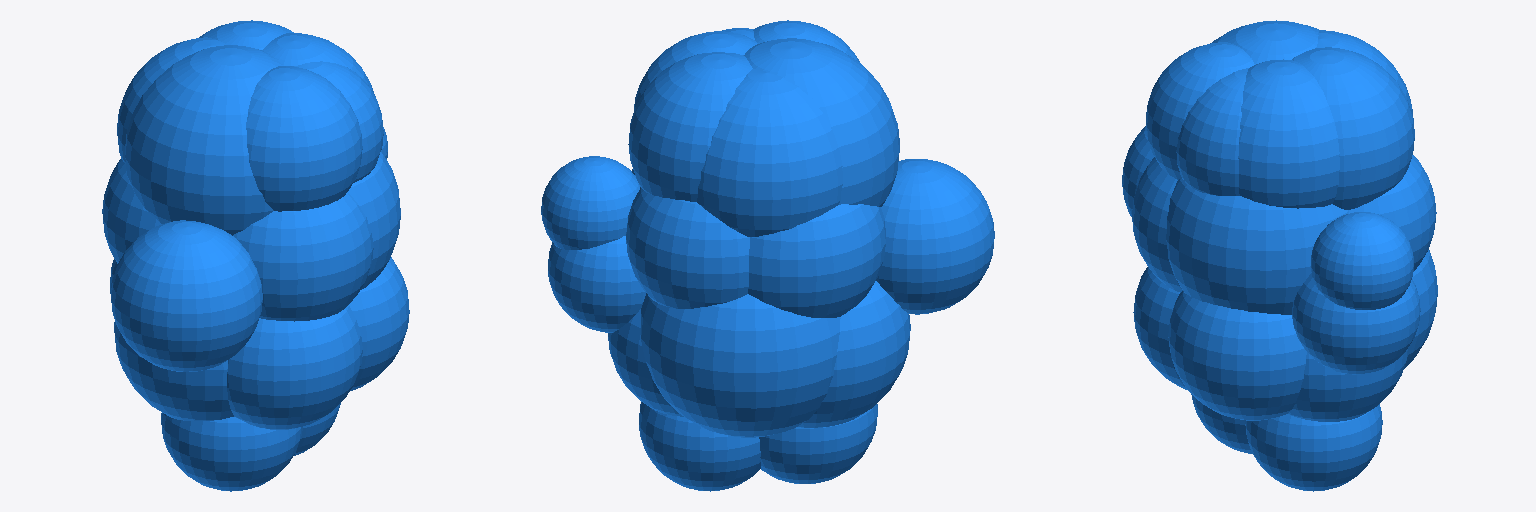
The robot description file, URDF, robot "panda_toy":
<?xml version="1.0"?>
<robot name="panda_toy">
  <!-- morphit:centroid 0.001925 -0.000075 0.040271 -->
  <material name="default_color">
    <color rgba="0.200000 0.600000 1.000000 1.000000"/>
  </material>
  <link name="base">
    <inertial>
      <mass value="0.001000"/>
      <inertia ixx="0.000010" ixy="0.0" ixz="0.0" iyy="0.000010" iyz="0.0" izz="0.000010"/>
    </inertial>
  </link>
  <link name="sphere_0">
    <visual>
      <origin xyz="0 0 0" rpy="0 0 0"/>
      <geometry><sphere radius="0.012722"/></geometry>
      <material name="default_color"/>
    </visual>
    <collision>
      <origin xyz="0 0 0" rpy="0 0 0"/>
      <geometry><sphere radius="0.012722"/></geometry>
    </collision>
    <inertial>
      <mass value="0.033515"/>
      <inertia ixx="0.000002" ixy="0.0" ixz="0.0" iyy="0.000002" iyz="0.0" izz="0.000002"/>
    </inertial>
  </link>
  <joint name="sphere_0_fixed" type="fixed">
    <parent link="base"/>
    <child link="sphere_0"/>
    <origin xyz="-0.023047 -0.014803 -0.000175" rpy="0 0 0"/>
  </joint>
  <link name="sphere_1">
    <visual>
      <origin xyz="0 0 0" rpy="0 0 0"/>
      <geometry><sphere radius="0.018164"/></geometry>
      <material name="default_color"/>
    </visual>
    <collision>
      <origin xyz="0 0 0" rpy="0 0 0"/>
      <geometry><sphere radius="0.018164"/></geometry>
    </collision>
    <inertial>
      <mass value="0.097553"/>
      <inertia ixx="0.000013" ixy="0.0" ixz="0.0" iyy="0.000013" iyz="0.0" izz="0.000013"/>
    </inertial>
  </link>
  <joint name="sphere_1_fixed" type="fixed">
    <parent link="base"/>
    <child link="sphere_1"/>
    <origin xyz="-0.004221 0.007321 -0.011780" rpy="0 0 0"/>
  </joint>
  <link name="sphere_2">
    <visual>
      <origin xyz="0 0 0" rpy="0 0 0"/>
      <geometry><sphere radius="0.011530"/></geometry>
      <material name="default_color"/>
    </visual>
    <collision>
      <origin xyz="0 0 0" rpy="0 0 0"/>
      <geometry><sphere radius="0.011530"/></geometry>
    </collision>
    <inertial>
      <mass value="0.024950"/>
      <inertia ixx="0.000001" ixy="0.0" ixz="0.0" iyy="0.000001" iyz="0.0" izz="0.000001"/>
    </inertial>
  </link>
  <joint name="sphere_2_fixed" type="fixed">
    <parent link="base"/>
    <child link="sphere_2"/>
    <origin xyz="0.004761 0.004672 -0.031903" rpy="0 0 0"/>
  </joint>
  <link name="sphere_3">
    <visual>
      <origin xyz="0 0 0" rpy="0 0 0"/>
      <geometry><sphere radius="0.008697"/></geometry>
      <material name="default_color"/>
    </visual>
    <collision>
      <origin xyz="0 0 0" rpy="0 0 0"/>
      <geometry><sphere radius="0.008697"/></geometry>
    </collision>
    <inertial>
      <mass value="0.010708"/>
      <inertia ixx="0.000000" ixy="0.0" ixz="0.0" iyy="0.000000" iyz="0.0" izz="0.000000"/>
    </inertial>
  </link>
  <joint name="sphere_3_fixed" type="fixed">
    <parent link="base"/>
    <child link="sphere_3"/>
    <origin xyz="0.021660 0.012800 0.005407" rpy="0 0 0"/>
  </joint>
  <link name="sphere_4">
    <visual>
      <origin xyz="0 0 0" rpy="0 0 0"/>
      <geometry><sphere radius="0.010829"/></geometry>
      <material name="default_color"/>
    </visual>
    <collision>
      <origin xyz="0 0 0" rpy="0 0 0"/>
      <geometry><sphere radius="0.010829"/></geometry>
    </collision>
    <inertial>
      <mass value="0.020670"/>
      <inertia ixx="0.000001" ixy="0.0" ixz="0.0" iyy="0.000001" iyz="0.0" izz="0.000001"/>
    </inertial>
  </link>
  <joint name="sphere_4_fixed" type="fixed">
    <parent link="base"/>
    <child link="sphere_4"/>
    <origin xyz="0.018602 0.011727 -0.004620" rpy="0 0 0"/>
  </joint>
  <link name="sphere_5">
    <visual>
      <origin xyz="0 0 0" rpy="0 0 0"/>
      <geometry><sphere radius="0.017652"/></geometry>
      <material name="default_color"/>
    </visual>
    <collision>
      <origin xyz="0 0 0" rpy="0 0 0"/>
      <geometry><sphere radius="0.017652"/></geometry>
    </collision>
    <inertial>
      <mass value="0.089531"/>
      <inertia ixx="0.000011" ixy="0.0" ixz="0.0" iyy="0.000011" iyz="0.0" izz="0.000011"/>
    </inertial>
  </link>
  <joint name="sphere_5_fixed" type="fixed">
    <parent link="base"/>
    <child link="sphere_5"/>
    <origin xyz="0.004466 -0.003354 0.004297" rpy="0 0 0"/>
  </joint>
  <link name="sphere_6">
    <visual>
      <origin xyz="0 0 0" rpy="0 0 0"/>
      <geometry><sphere radius="0.011909"/></geometry>
      <material name="default_color"/>
    </visual>
    <collision>
      <origin xyz="0 0 0" rpy="0 0 0"/>
      <geometry><sphere radius="0.011909"/></geometry>
    </collision>
    <inertial>
      <mass value="0.027490"/>
      <inertia ixx="0.000002" ixy="0.0" ixz="0.0" iyy="0.000002" iyz="0.0" izz="0.000002"/>
    </inertial>
  </link>
  <joint name="sphere_6_fixed" type="fixed">
    <parent link="base"/>
    <child link="sphere_6"/>
    <origin xyz="-0.008177 -0.004148 -0.030769" rpy="0 0 0"/>
  </joint>
  <link name="sphere_7">
    <visual>
      <origin xyz="0 0 0" rpy="0 0 0"/>
      <geometry><sphere radius="0.017769"/></geometry>
      <material name="default_color"/>
    </visual>
    <collision>
      <origin xyz="0 0 0" rpy="0 0 0"/>
      <geometry><sphere radius="0.017769"/></geometry>
    </collision>
    <inertial>
      <mass value="0.091315"/>
      <inertia ixx="0.000012" ixy="0.0" ixz="0.0" iyy="0.000012" iyz="0.0" izz="0.000012"/>
    </inertial>
  </link>
  <joint name="sphere_7_fixed" type="fixed">
    <parent link="base"/>
    <child link="sphere_7"/>
    <origin xyz="-0.006999 -0.001669 0.017408" rpy="0 0 0"/>
  </joint>
  <link name="sphere_8">
    <visual>
      <origin xyz="0 0 0" rpy="0 0 0"/>
      <geometry><sphere radius="0.014297"/></geometry>
      <material name="default_color"/>
    </visual>
    <collision>
      <origin xyz="0 0 0" rpy="0 0 0"/>
      <geometry><sphere radius="0.014297"/></geometry>
    </collision>
    <inertial>
      <mass value="0.047566"/>
      <inertia ixx="0.000004" ixy="0.0" ixz="0.0" iyy="0.000004" iyz="0.0" izz="0.000004"/>
    </inertial>
  </link>
  <joint name="sphere_8_fixed" type="fixed">
    <parent link="base"/>
    <child link="sphere_8"/>
    <origin xyz="0.008787 -0.005453 -0.013918" rpy="0 0 0"/>
  </joint>
  <link name="sphere_9">
    <visual>
      <origin xyz="0 0 0" rpy="0 0 0"/>
      <geometry><sphere radius="0.014061"/></geometry>
      <material name="default_color"/>
    </visual>
    <collision>
      <origin xyz="0 0 0" rpy="0 0 0"/>
      <geometry><sphere radius="0.014061"/></geometry>
    </collision>
    <inertial>
      <mass value="0.045253"/>
      <inertia ixx="0.000004" ixy="0.0" ixz="0.0" iyy="0.000004" iyz="0.0" izz="0.000004"/>
    </inertial>
  </link>
  <joint name="sphere_9_fixed" type="fixed">
    <parent link="base"/>
    <child link="sphere_9"/>
    <origin xyz="-0.003380 -0.011515 -0.015249" rpy="0 0 0"/>
  </joint>
  <link name="sphere_10">
    <visual>
      <origin xyz="0 0 0" rpy="0 0 0"/>
      <geometry><sphere radius="0.016198"/></geometry>
      <material name="default_color"/>
    </visual>
    <collision>
      <origin xyz="0 0 0" rpy="0 0 0"/>
      <geometry><sphere radius="0.016198"/></geometry>
    </collision>
    <inertial>
      <mass value="0.069182"/>
      <inertia ixx="0.000007" ixy="0.0" ixz="0.0" iyy="0.000007" iyz="0.0" izz="0.000007"/>
    </inertial>
  </link>
  <joint name="sphere_10_fixed" type="fixed">
    <parent link="base"/>
    <child link="sphere_10"/>
    <origin xyz="-0.010836 -0.001636 -0.014396" rpy="0 0 0"/>
  </joint>
  <link name="sphere_11">
    <visual>
      <origin xyz="0 0 0" rpy="0 0 0"/>
      <geometry><sphere radius="0.015615"/></geometry>
      <material name="default_color"/>
    </visual>
    <collision>
      <origin xyz="0 0 0" rpy="0 0 0"/>
      <geometry><sphere radius="0.015615"/></geometry>
    </collision>
    <inertial>
      <mass value="0.061977"/>
      <inertia ixx="0.000006" ixy="0.0" ixz="0.0" iyy="0.000006" iyz="0.0" izz="0.000006"/>
    </inertial>
  </link>
  <joint name="sphere_11_fixed" type="fixed">
    <parent link="base"/>
    <child link="sphere_11"/>
    <origin xyz="-0.006629 0.005832 0.018138" rpy="0 0 0"/>
  </joint>
  <link name="sphere_12">
    <visual>
      <origin xyz="0 0 0" rpy="0 0 0"/>
      <geometry><sphere radius="0.014168"/></geometry>
      <material name="default_color"/>
    </visual>
    <collision>
      <origin xyz="0 0 0" rpy="0 0 0"/>
      <geometry><sphere radius="0.014168"/></geometry>
    </collision>
    <inertial>
      <mass value="0.046293"/>
      <inertia ixx="0.000004" ixy="0.0" ixz="0.0" iyy="0.000004" iyz="0.0" izz="0.000004"/>
    </inertial>
  </link>
  <joint name="sphere_12_fixed" type="fixed">
    <parent link="base"/>
    <child link="sphere_12"/>
    <origin xyz="0.006417 0.006517 -0.015798" rpy="0 0 0"/>
  </joint>
  <link name="sphere_13">
    <visual>
      <origin xyz="0 0 0" rpy="0 0 0"/>
      <geometry><sphere radius="0.014165"/></geometry>
      <material name="default_color"/>
    </visual>
    <collision>
      <origin xyz="0 0 0" rpy="0 0 0"/>
      <geometry><sphere radius="0.014165"/></geometry>
    </collision>
    <inertial>
      <mass value="0.046265"/>
      <inertia ixx="0.000004" ixy="0.0" ixz="0.0" iyy="0.000004" iyz="0.0" izz="0.000004"/>
    </inertial>
  </link>
  <joint name="sphere_13_fixed" type="fixed">
    <parent link="base"/>
    <child link="sphere_13"/>
    <origin xyz="0.005758 -0.000472 0.020163" rpy="0 0 0"/>
  </joint>
  <link name="sphere_14">
    <visual>
      <origin xyz="0 0 0" rpy="0 0 0"/>
      <geometry><sphere radius="0.012836"/></geometry>
      <material name="default_color"/>
    </visual>
    <collision>
      <origin xyz="0 0 0" rpy="0 0 0"/>
      <geometry><sphere radius="0.012836"/></geometry>
    </collision>
    <inertial>
      <mass value="0.034424"/>
      <inertia ixx="0.000002" ixy="0.0" ixz="0.0" iyy="0.000002" iyz="0.0" izz="0.000002"/>
    </inertial>
  </link>
  <joint name="sphere_14_fixed" type="fixed">
    <parent link="base"/>
    <child link="sphere_14"/>
    <origin xyz="0.005104 -0.006111 0.020096" rpy="0 0 0"/>
  </joint>
  <link name="sphere_15">
    <visual>
      <origin xyz="0 0 0" rpy="0 0 0"/>
      <geometry><sphere radius="0.015396"/></geometry>
      <material name="default_color"/>
    </visual>
    <collision>
      <origin xyz="0 0 0" rpy="0 0 0"/>
      <geometry><sphere radius="0.015396"/></geometry>
    </collision>
    <inertial>
      <mass value="0.059407"/>
      <inertia ixx="0.000006" ixy="0.0" ixz="0.0" iyy="0.000006" iyz="0.0" izz="0.000006"/>
    </inertial>
  </link>
  <joint name="sphere_15_fixed" type="fixed">
    <parent link="base"/>
    <child link="sphere_15"/>
    <origin xyz="-0.010601 0.004266 0.004428" rpy="0 0 0"/>
  </joint>
  <link name="sphere_16">
    <visual>
      <origin xyz="0 0 0" rpy="0 0 0"/>
      <geometry><sphere radius="0.014768"/></geometry>
      <material name="default_color"/>
    </visual>
    <collision>
      <origin xyz="0 0 0" rpy="0 0 0"/>
      <geometry><sphere radius="0.014768"/></geometry>
    </collision>
    <inertial>
      <mass value="0.052428"/>
      <inertia ixx="0.000005" ixy="0.0" ixz="0.0" iyy="0.000005" iyz="0.0" izz="0.000005"/>
    </inertial>
  </link>
  <joint name="sphere_16_fixed" type="fixed">
    <parent link="base"/>
    <child link="sphere_16"/>
    <origin xyz="0.001671 0.006859 0.019798" rpy="0 0 0"/>
  </joint>
  <link name="sphere_17">
    <visual>
      <origin xyz="0 0 0" rpy="0 0 0"/>
      <geometry><sphere radius="0.014652"/></geometry>
      <material name="default_color"/>
    </visual>
    <collision>
      <origin xyz="0 0 0" rpy="0 0 0"/>
      <geometry><sphere radius="0.014652"/></geometry>
    </collision>
    <inertial>
      <mass value="0.051205"/>
      <inertia ixx="0.000004" ixy="0.0" ixz="0.0" iyy="0.000004" iyz="0.0" izz="0.000004"/>
    </inertial>
  </link>
  <joint name="sphere_17_fixed" type="fixed">
    <parent link="base"/>
    <child link="sphere_17"/>
    <origin xyz="0.000130 0.010568 0.004680" rpy="0 0 0"/>
  </joint>
  <link name="sphere_18">
    <visual>
      <origin xyz="0 0 0" rpy="0 0 0"/>
      <geometry><sphere radius="0.014817"/></geometry>
      <material name="default_color"/>
    </visual>
    <collision>
      <origin xyz="0 0 0" rpy="0 0 0"/>
      <geometry><sphere radius="0.014817"/></geometry>
    </collision>
    <inertial>
      <mass value="0.052955"/>
      <inertia ixx="0.000005" ixy="0.0" ixz="0.0" iyy="0.000005" iyz="0.0" izz="0.000005"/>
    </inertial>
  </link>
  <joint name="sphere_18_fixed" type="fixed">
    <parent link="base"/>
    <child link="sphere_18"/>
    <origin xyz="-0.001791 -0.011036 0.003271" rpy="0 0 0"/>
  </joint>
  <link name="sphere_19">
    <visual>
      <origin xyz="0 0 0" rpy="0 0 0"/>
      <geometry><sphere radius="0.013185"/></geometry>
      <material name="default_color"/>
    </visual>
    <collision>
      <origin xyz="0 0 0" rpy="0 0 0"/>
      <geometry><sphere radius="0.013185"/></geometry>
    </collision>
    <inertial>
      <mass value="0.037312"/>
      <inertia ixx="0.000003" ixy="0.0" ixz="0.0" iyy="0.000003" iyz="0.0" izz="0.000003"/>
    </inertial>
  </link>
  <joint name="sphere_19_fixed" type="fixed">
    <parent link="base"/>
    <child link="sphere_19"/>
    <origin xyz="-0.001677 -0.010364 0.020923" rpy="0 0 0"/>
  </joint>
</robot>

--- Render facts (derived) ---
Views: 3 orthographic renders of the robot side by side, from view 1: azimuth 30°, elevation 25°; view 2: azimuth 150°, elevation 25°; view 3: azimuth 270°, elevation 25°.
Robot: panda_toy — 21 links, 20 joints (20 fixed); root link base; default pose: all joints at 0.
Links seen in each view (by area): view 1: sphere_7, sphere_0, sphere_19, sphere_9, sphere_18, sphere_6, sphere_10, sphere_8, sphere_5, sphere_14, sphere_15, sphere_11 (+3 smaller); view 2: sphere_1, sphere_11, sphere_0, sphere_15, sphere_7, sphere_16, sphere_17, sphere_10, sphere_3, sphere_2, sphere_4, sphere_6 (+3 smaller); view 3: sphere_5, sphere_8, sphere_13, sphere_16, sphere_3, sphere_2, sphere_4, sphere_14, sphere_19, sphere_12, sphere_18, sphere_17 (+6 smaller).
Boxes of the visible links, x1,y1,x2,y2 form: sphere_7: [125, 45, 283, 235]; sphere_0: [111, 220, 262, 371]; sphere_19: [246, 66, 362, 211]; sphere_9: [227, 305, 362, 429]; sphere_18: [233, 192, 373, 321]; sphere_6: [161, 413, 302, 491]; sphere_10: [114, 322, 233, 420]; sphere_8: [349, 257, 409, 390]; sphere_5: [348, 151, 400, 289]; sphere_14: [294, 61, 383, 182]; sphere_15: [102, 159, 161, 263]; sphere_11: [117, 37, 225, 163]; sphere_1: [641, 293, 840, 437]; sphere_11: [697, 69, 842, 236]; sphere_0: [876, 159, 994, 314]; sphere_15: [748, 204, 885, 317]; sphere_7: [744, 38, 899, 206]; sphere_16: [628, 52, 752, 201]; sphere_17: [626, 188, 749, 308]; sphere_10: [798, 281, 910, 427]; sphere_3: [541, 156, 639, 249]; sphere_2: [639, 402, 760, 491]; sphere_4: [548, 236, 645, 332]; sphere_6: [759, 404, 877, 483]; sphere_5: [1166, 178, 1347, 314]; sphere_8: [1168, 291, 1306, 420]; sphere_13: [1238, 59, 1339, 208]; sphere_16: [1292, 47, 1414, 209]; sphere_3: [1311, 212, 1413, 309]; sphere_2: [1245, 404, 1382, 491]; sphere_4: [1292, 273, 1420, 374]; sphere_14: [1176, 68, 1248, 195]; sphere_19: [1146, 42, 1254, 179]; sphere_12: [1288, 347, 1408, 421]; sphere_18: [1132, 157, 1182, 292]; sphere_17: [1348, 155, 1436, 270].
Size in the robot's own frame: 0.0661 by 0.053 by 0.0786 metres.
Geometry: primitives only (box / cylinder / sphere), no mesh files.
